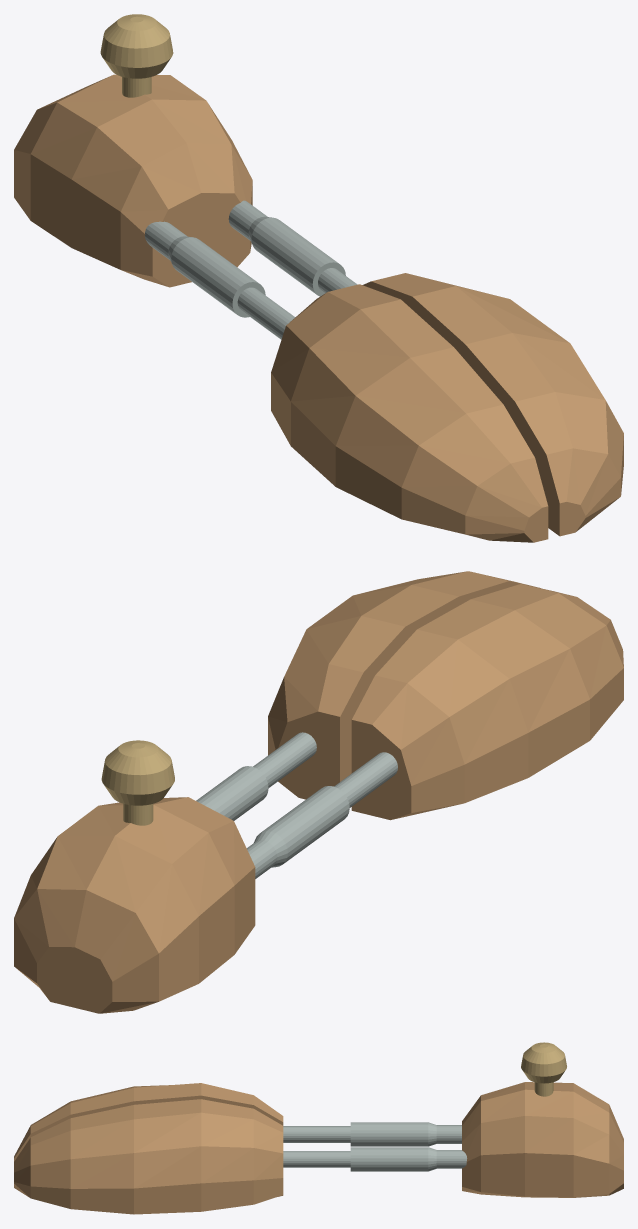
3 renders of one model, top to bottom at view 1: azimuth 30°, elevation 25°; view 2: azimuth 150°, elevation 25°; view 3: azimuth 270°, elevation 25°, orthographic. The views are drawn at different scales.
Visible parts, largest first — view 1: WholeDomedSplitForefoot_Left, WholeRoundedFullHeelBlock, WholeDomedSplitForefoot_Right, WholeParallelSteppedLinkStem_Left, WholeParallelSteppedLinkStem_Right, WholeHeelPullStemAndRoundedKnob; view 2: WholeDomedSplitForefoot_Left, WholeRoundedFullHeelBlock, WholeDomedSplitForefoot_Right, WholeParallelSteppedLinkStem_Left, WholeHeelPullStemAndRoundedKnob, WholeParallelSteppedLinkStem_Right; view 3: WholeDomedSplitForefoot_Right, WholeRoundedFullHeelBlock, WholeDomedSplitForefoot_Left, WholeParallelSteppedLinkStem_Right, WholeParallelSteppedLinkStem_Left, WholeHeelPullStemAndRoundedKnob.
Part boxes in pixels (left/top/right/bottom): WholeDomedSplitForefoot_Left: left=271, top=284, right=548, bottom=542; WholeRoundedFullHeelBlock: left=14, top=74, right=252, bottom=287; WholeDomedSplitForefoot_Right: left=362, top=273, right=623, bottom=536; WholeParallelSteppedLinkStem_Left: left=145, top=221, right=295, bottom=339; WholeParallelSteppedLinkStem_Right: left=228, top=200, right=357, bottom=296; WholeHeelPullStemAndRoundedKnob: left=100, top=14, right=173, bottom=97; WholeDomedSplitForefoot_Left: left=351, top=584, right=623, bottom=820; WholeRoundedFullHeelBlock: left=14, top=797, right=255, bottom=1013; WholeDomedSplitForefoot_Right: left=268, top=571, right=540, bottom=799; WholeParallelSteppedLinkStem_Left: left=247, top=752, right=397, bottom=878; WholeHeelPullStemAndRoundedKnob: left=101, top=740, right=174, bottom=825; WholeParallelSteppedLinkStem_Right: left=196, top=732, right=316, bottom=820; WholeDomedSplitForefoot_Right: left=14, top=1099, right=283, bottom=1214; WholeRoundedFullHeelBlock: left=462, top=1082, right=623, bottom=1197; WholeDomedSplitForefoot_Left: left=14, top=1083, right=283, bottom=1161; WholeParallelSteppedLinkStem_Right: left=283, top=1147, right=467, bottom=1171; WholeParallelSteppedLinkStem_Left: left=283, top=1122, right=461, bottom=1146; WholeHeelPullStemAndRoundedKnob: left=521, top=1042, right=566, bottom=1096.
Size of the model in its own units: 0.0892 by 0.071 by 0.29.
